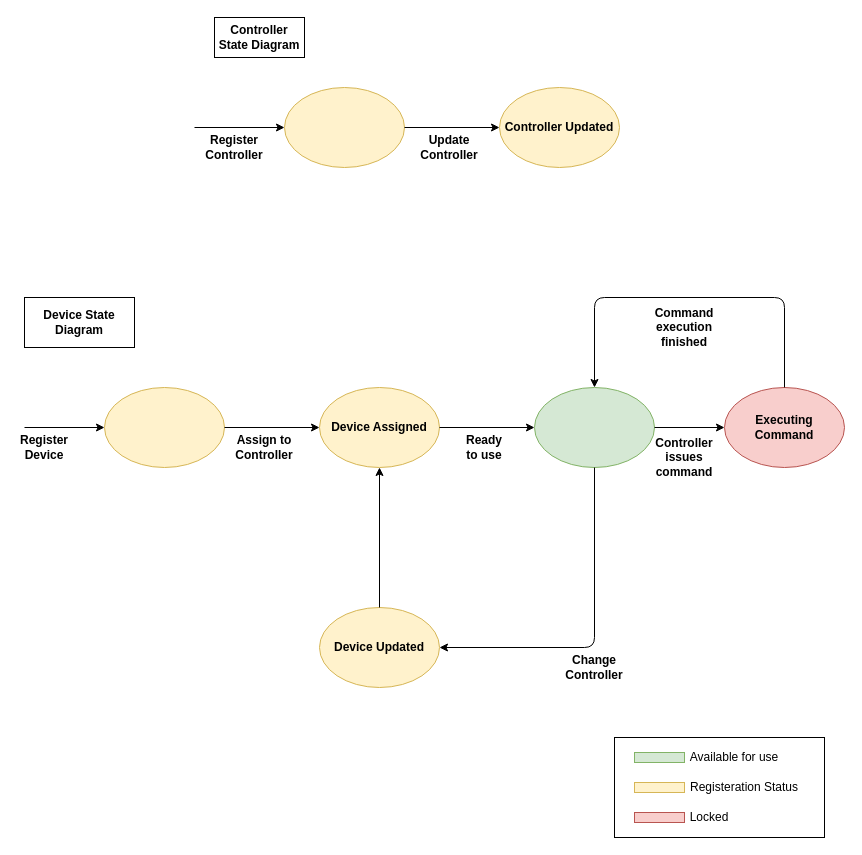
This 862x855 diagram has some shape labels left out. Each missing label, with the centre of its shape:
Available: (x=594, y=427)
Controller Registered: (x=344, y=127)
Device Registered: (x=164, y=427)
